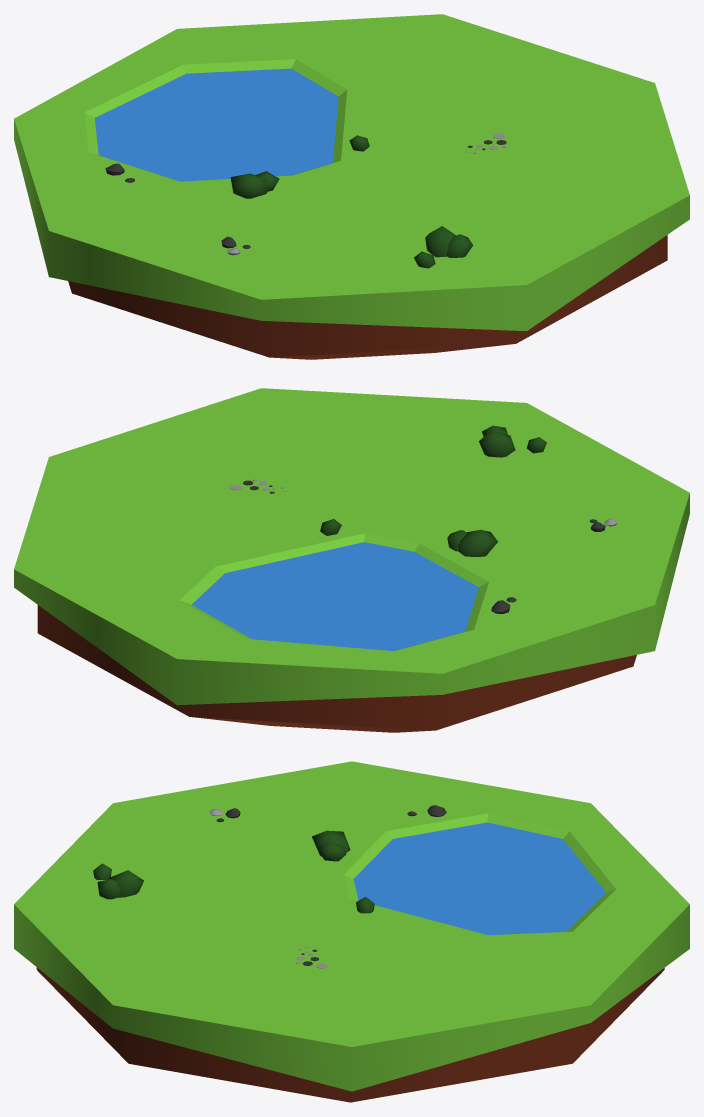
File: Ground.fbx
The picture shows the model from 3 angles, top to bottom: view 1: azimuth 30°, elevation 25°; view 2: azimuth 150°, elevation 25°; view 3: azimuth 270°, elevation 25°; orthographic projection. The views are drawn at different scales.
Visible parts, largest first — view 1: Cylinder002, Object, Cylinder001, GeoSphere005, GeoSphere002; view 2: Cylinder002, Object, Cylinder001, GeoSphere005, GeoSphere002; view 3: Cylinder002, Object, Cylinder001, GeoSphere002.
Boxes of the visible parts, x1,y1,x2,y2 form: Cylinder002: [14, 14, 689, 331]; Object: [94, 68, 338, 181]; Cylinder001: [68, 235, 667, 359]; GeoSphere005: [230, 173, 267, 198]; GeoSphere002: [425, 226, 455, 257]; Cylinder002: [14, 388, 689, 705]; Object: [192, 542, 478, 650]; Cylinder001: [37, 605, 636, 732]; GeoSphere005: [458, 529, 497, 556]; GeoSphere002: [479, 431, 515, 457]; Cylinder002: [14, 761, 689, 1091]; Object: [353, 822, 605, 935]; Cylinder001: [36, 967, 664, 1102]; GeoSphere002: [108, 870, 143, 897].
Bounding box in the file's own units: 790 × 249 × 790.
